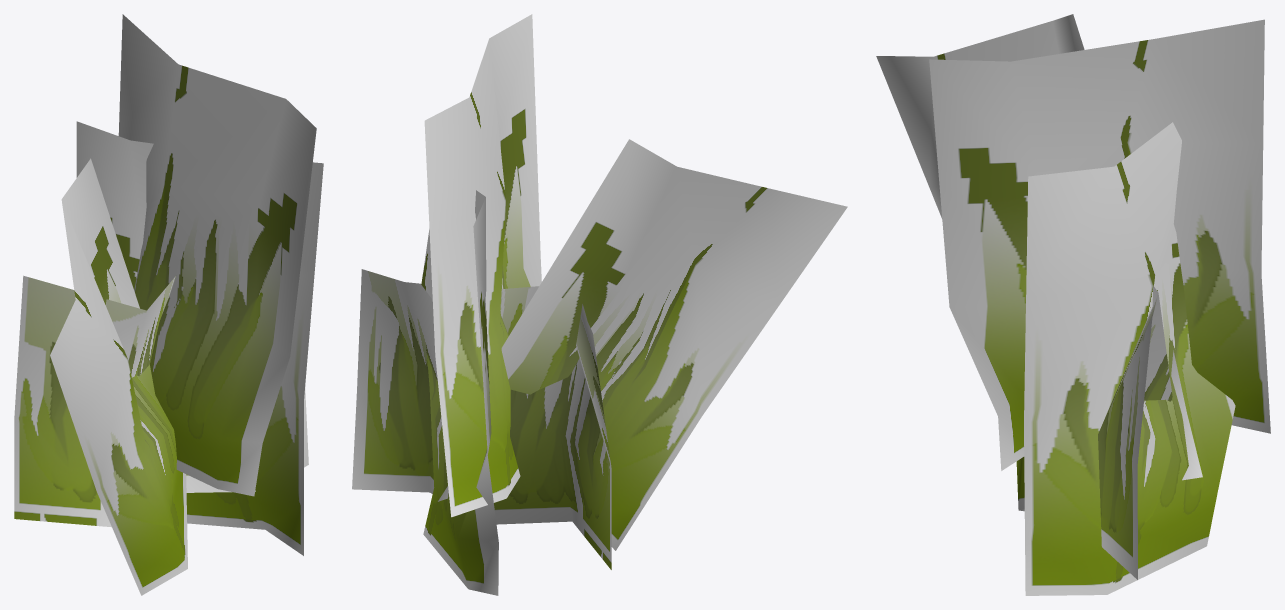
Rendered from Mod_Grass03.fbx.
3 views of the same model, side by side, from view 1: azimuth 30°, elevation 25°; view 2: azimuth 150°, elevation 25°; view 3: azimuth 270°, elevation 25° (orthographic). The views are drawn at different scales.
Visible parts, largest first — view 1: Grass03; view 2: Grass03; view 3: Grass03.
Boxes of the visible parts, x1,y1,x2,y2 form: Grass03: [14, 14, 323, 595]; Grass03: [352, 14, 847, 595]; Grass03: [876, 14, 1270, 595].
Bounding box in the file's own units: 75.33 × 92.63 × 61.44.
